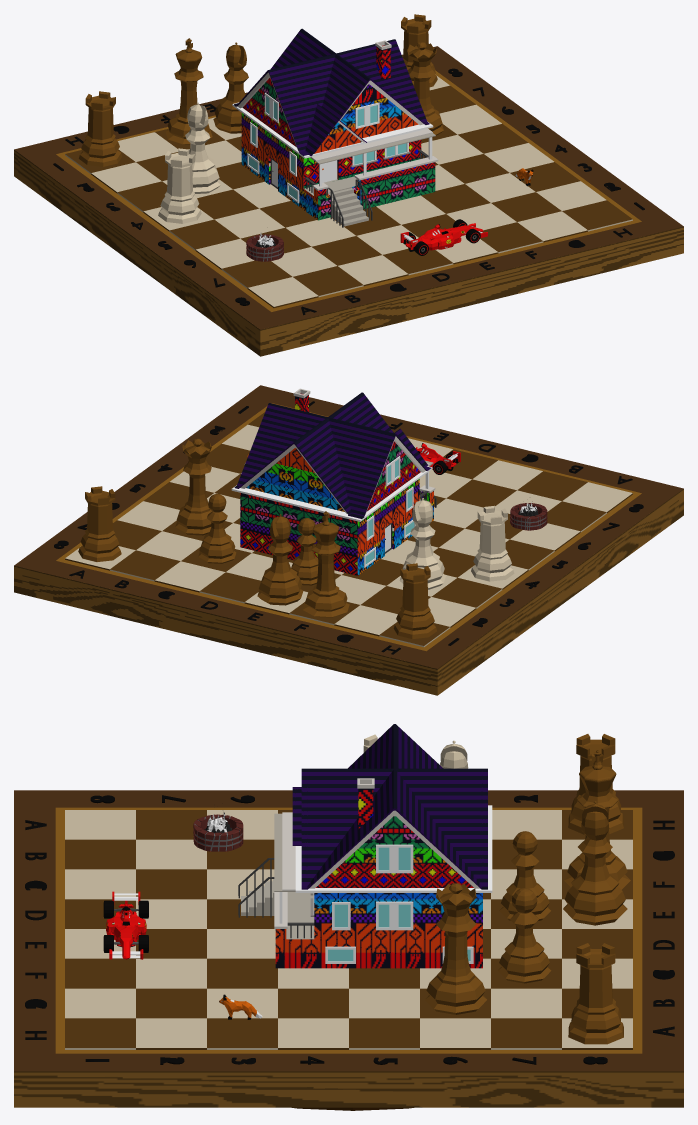
The picture shows the model from 3 angles, top to bottom: view 1: azimuth 30°, elevation 25°; view 2: azimuth 150°, elevation 25°; view 3: azimuth 270°, elevation 25°; orthographic projection. The views are drawn at different scales.
Parts seen in each view (by area): view 1: Cube.002, Cube.966, VEHICLES_FORMULA_1, OBJRANDOM_CAMPFIRE; view 2: Cube.002, Cube.966, OBJRANDOM_CAMPFIRE, VEHICLES_FORMULA_1; view 3: Cube.002, Cube.966, VEHICLES_FORMULA_1, OBJRANDOM_CAMPFIRE.
Boxes of the visible parts, x1,y1,x2,y2 form: Cube.002: [14, 14, 683, 356]; Cube.966: [232, 28, 438, 227]; VEHICLES_FORMULA_1: [400, 219, 487, 255]; OBJRANDOM_CAMPFIRE: [246, 232, 283, 261]; Cube.002: [14, 385, 683, 695]; Cube.966: [231, 388, 436, 575]; OBJRANDOM_CAMPFIRE: [510, 501, 547, 530]; VEHICLES_FORMULA_1: [415, 443, 460, 474]; Cube.002: [14, 734, 683, 1107]; Cube.966: [238, 724, 492, 968]; VEHICLES_FORMULA_1: [103, 891, 148, 959]; OBJRANDOM_CAMPFIRE: [193, 812, 243, 851].
Bounding box in the file's own units: 3981 × 1551 × 4012.
Materials: 43 (6 with a texture image).
